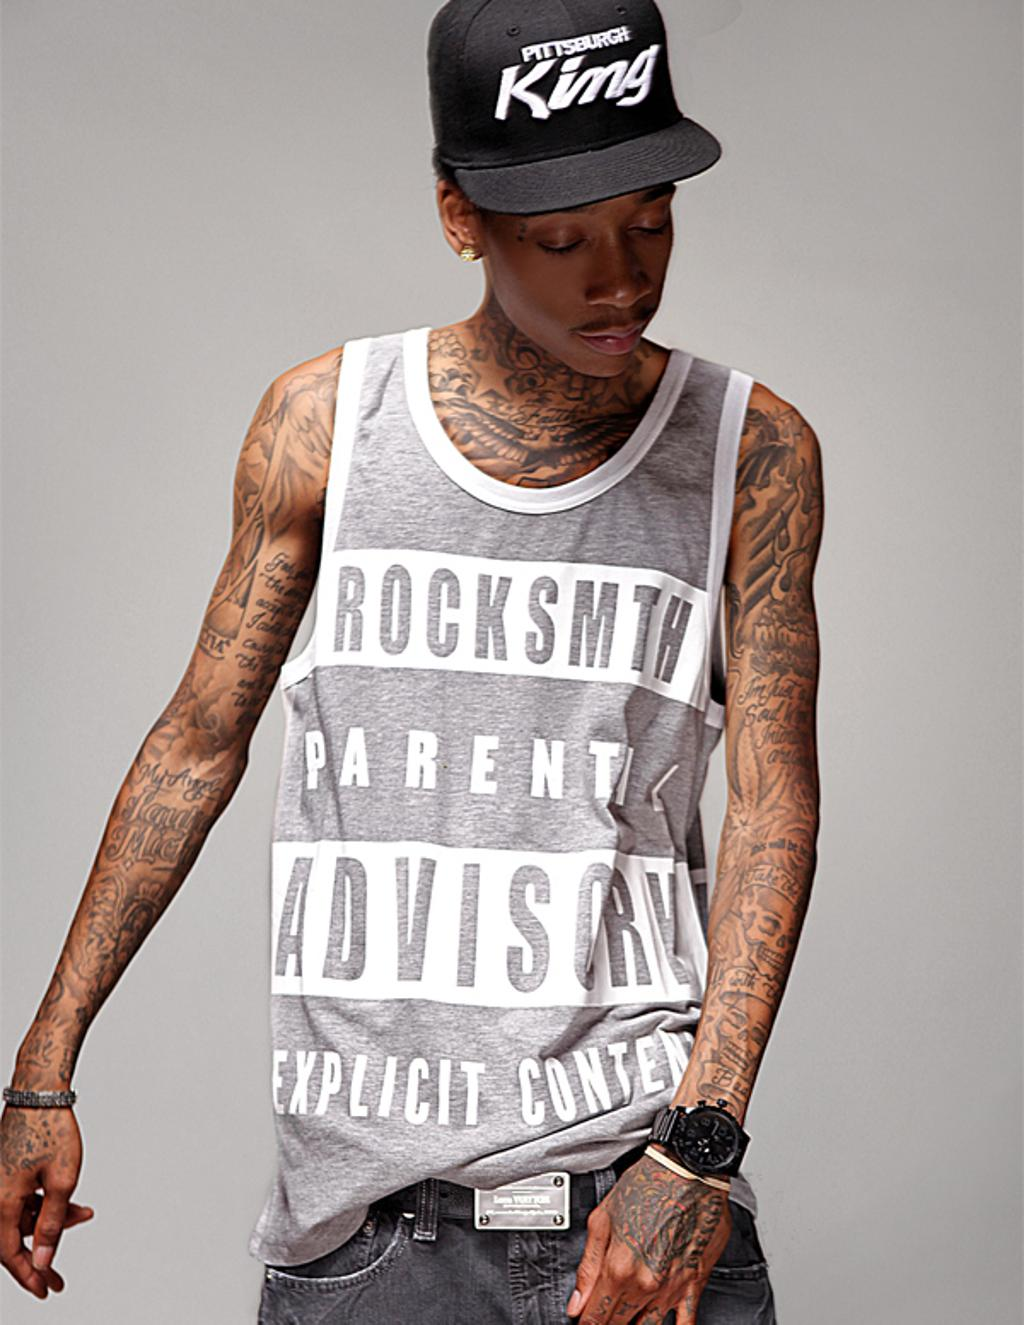face: (491, 111, 672, 377)
